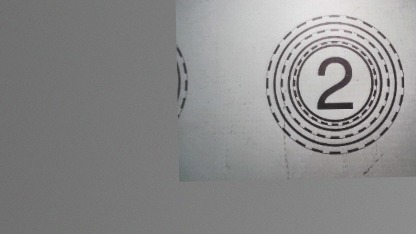2r: (264, 14, 405, 156)
